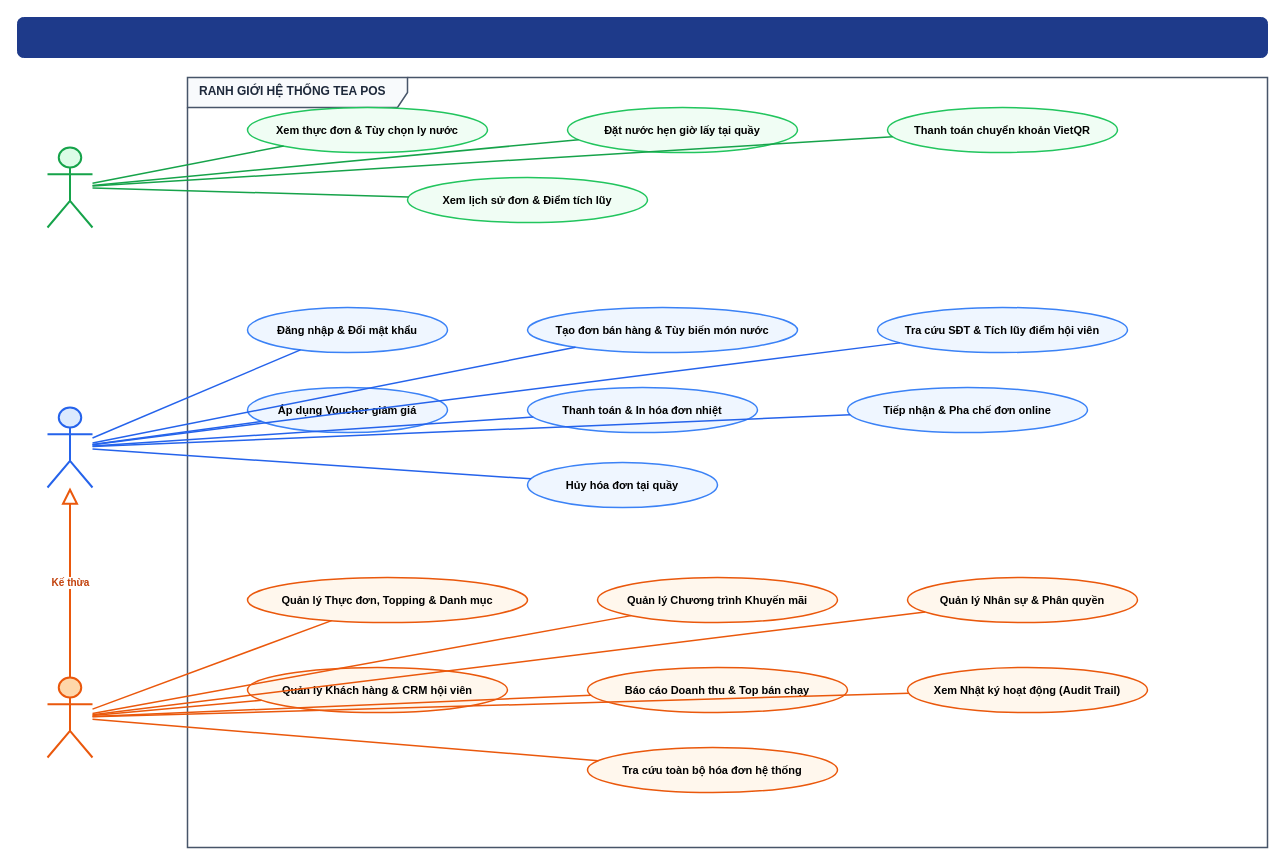
This 1286x866 diagram has some shape labels left out. The box of each missing label's shape, as (x1, y1, x2, y2) in pixels:
Khách hàng: (46, 146, 93, 228)
Nhân viên (Thu ngân): (46, 406, 93, 488)
Quản lý (Admin): (46, 676, 93, 758)
SƠ ĐỒ USE CASE TỔNG QUAN TOÀN BỘ HỆ THỐNG TEA POS: (16, 16, 1268, 58)
